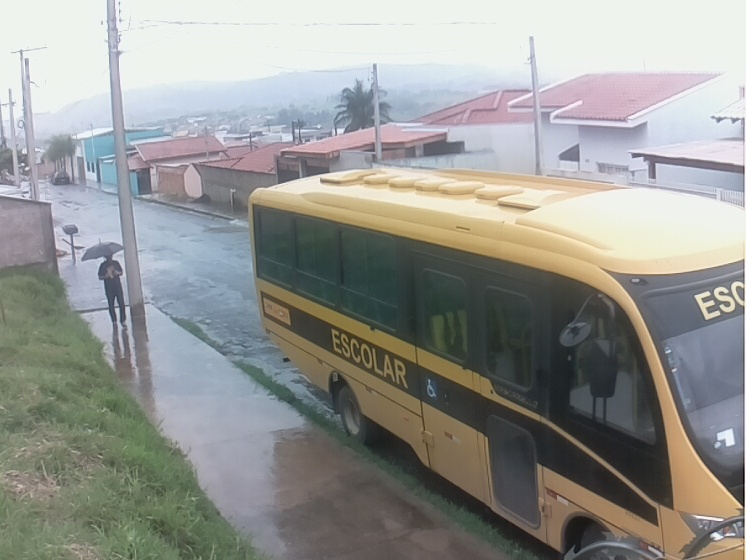person: (97, 252, 131, 327)
